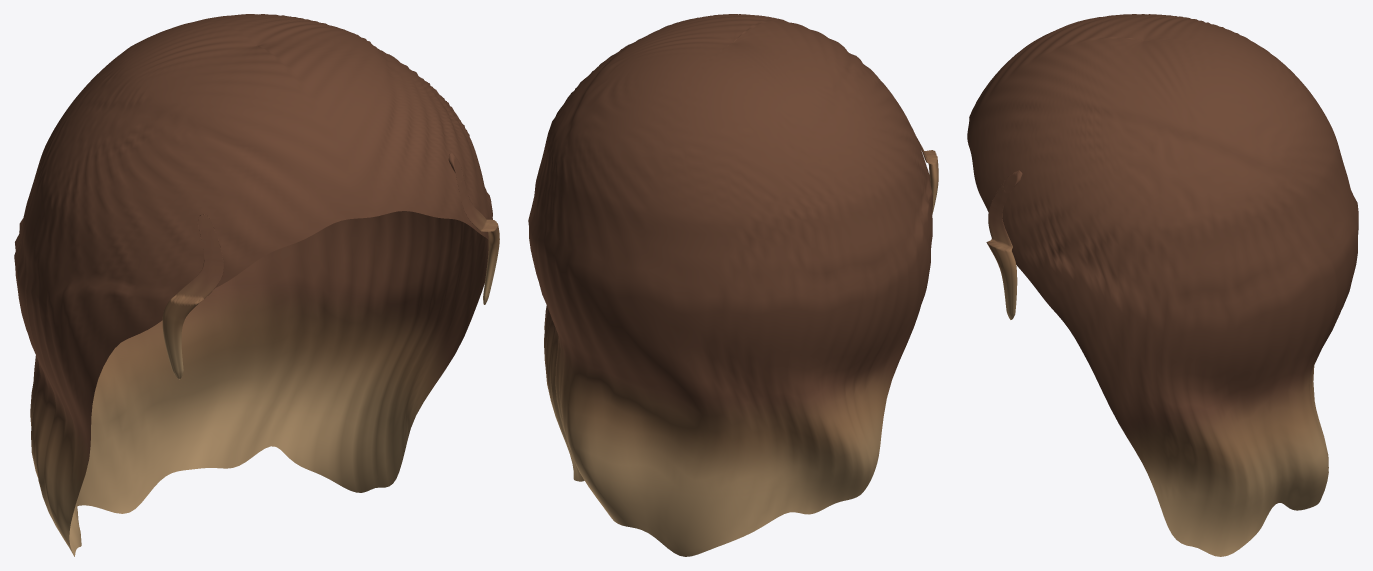
File: space-buns-beanie-ombre.glb
3 views of the same model, side by side, from view 1: azimuth 30°, elevation 25°; view 2: azimuth 150°, elevation 25°; view 3: azimuth 270°, elevation 25° (orthographic). The views are drawn at different scales.
Parts seen in each view (by area): view 1: 226 hair / Hair / chestnut226.002; view 2: 226 hair / Hair / chestnut226.002; view 3: 226 hair / Hair / chestnut226.002.
Boxes of the visible parts, x1,y1,x2,y2 form: 226 hair / Hair / chestnut226.002: (14,14,499,556); 226 hair / Hair / chestnut226.002: (528,14,938,556); 226 hair / Hair / chestnut226.002: (967,14,1358,556).
Bounding box in the file's own units: 0.8048 × 0.9707 × 0.7316.
Materials: 1 (1 with a texture image).
